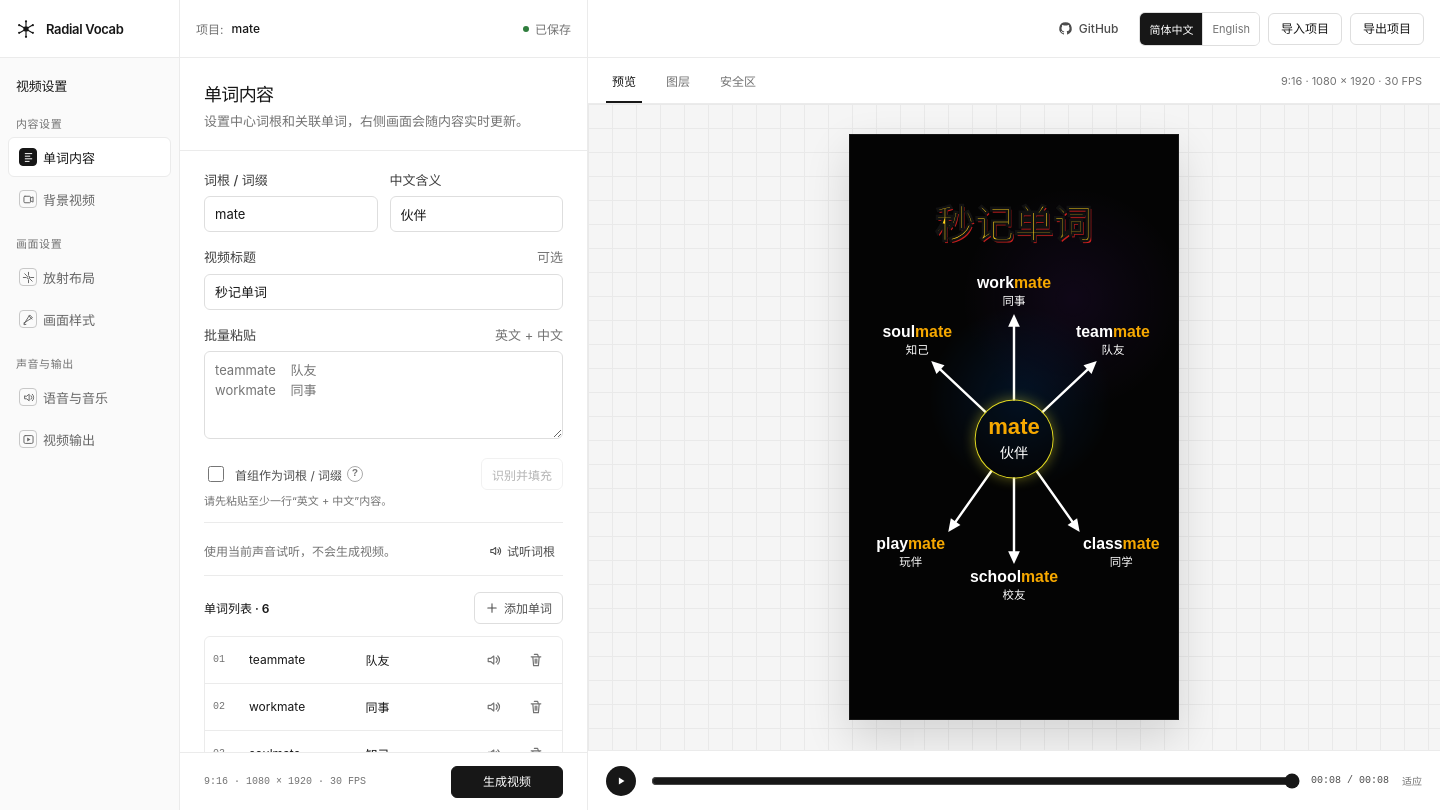
Test: three-column editor › opens and focuses the source field when a validation issue is selected
Clear the field named "中文 1" at (413, 660), box [358, 644, 468, 676]
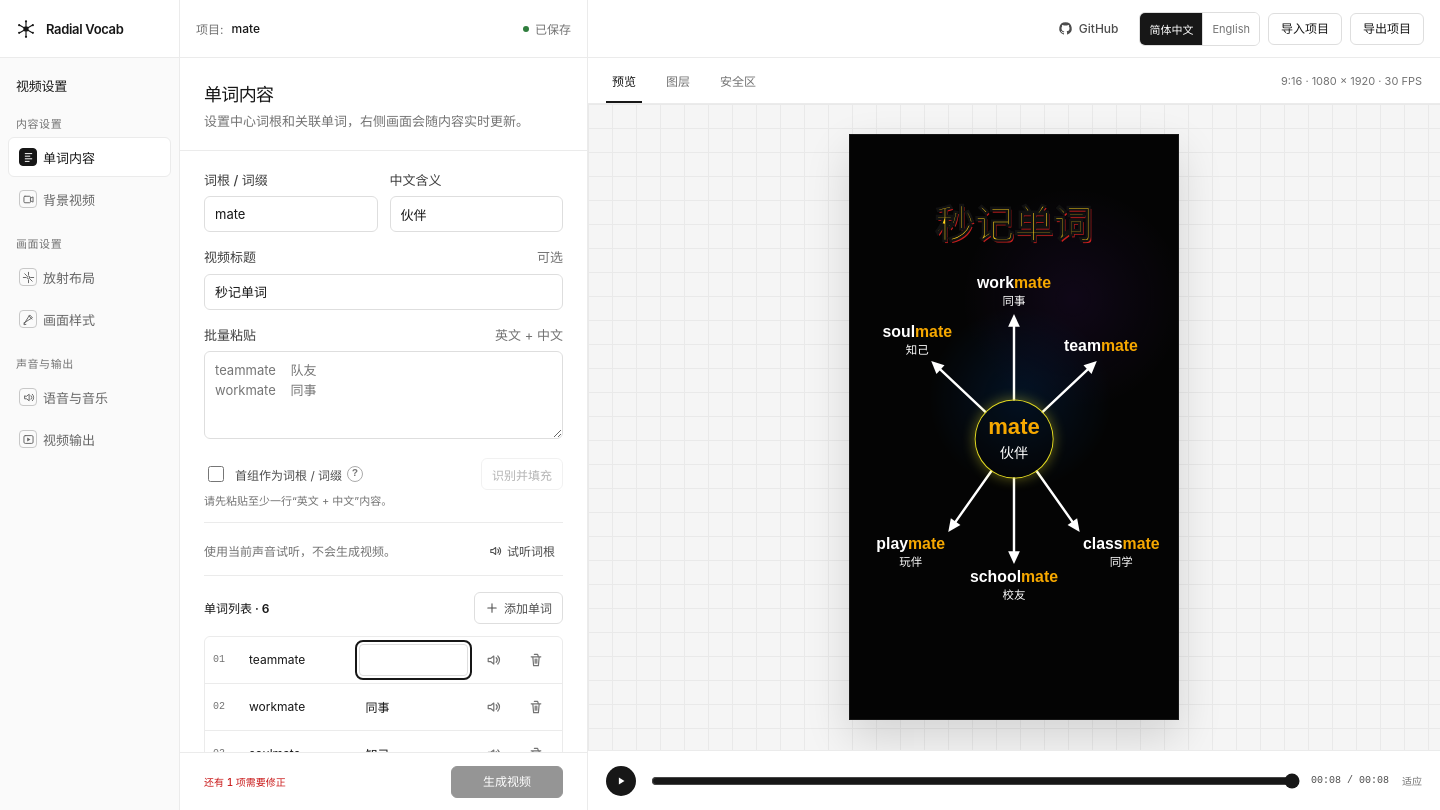
Click the button "视频输出" at (90, 439), box [8, 419, 171, 459]
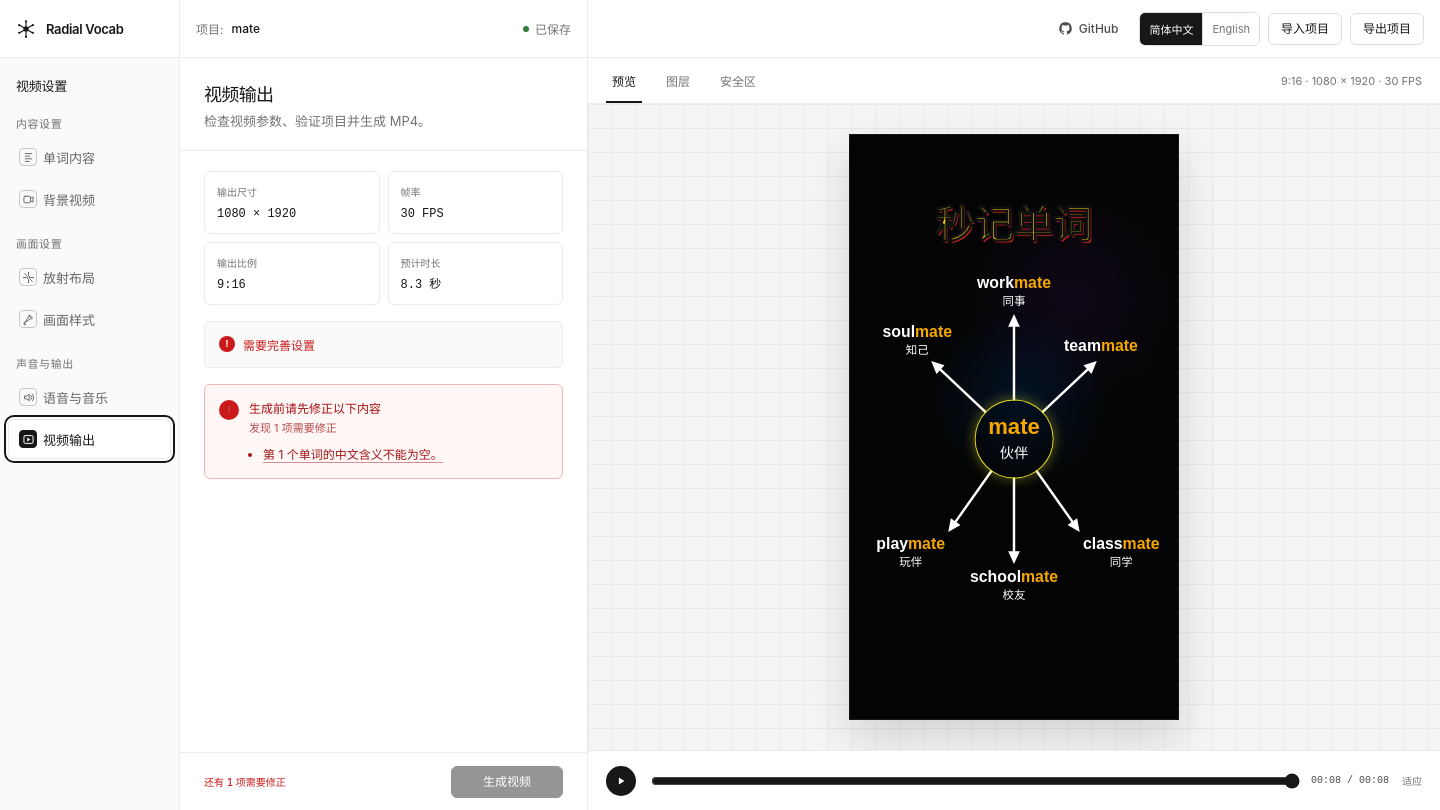
Click the button "第 1 个单词的中文含义不能为空。" at (353, 454), box [263, 444, 443, 464]
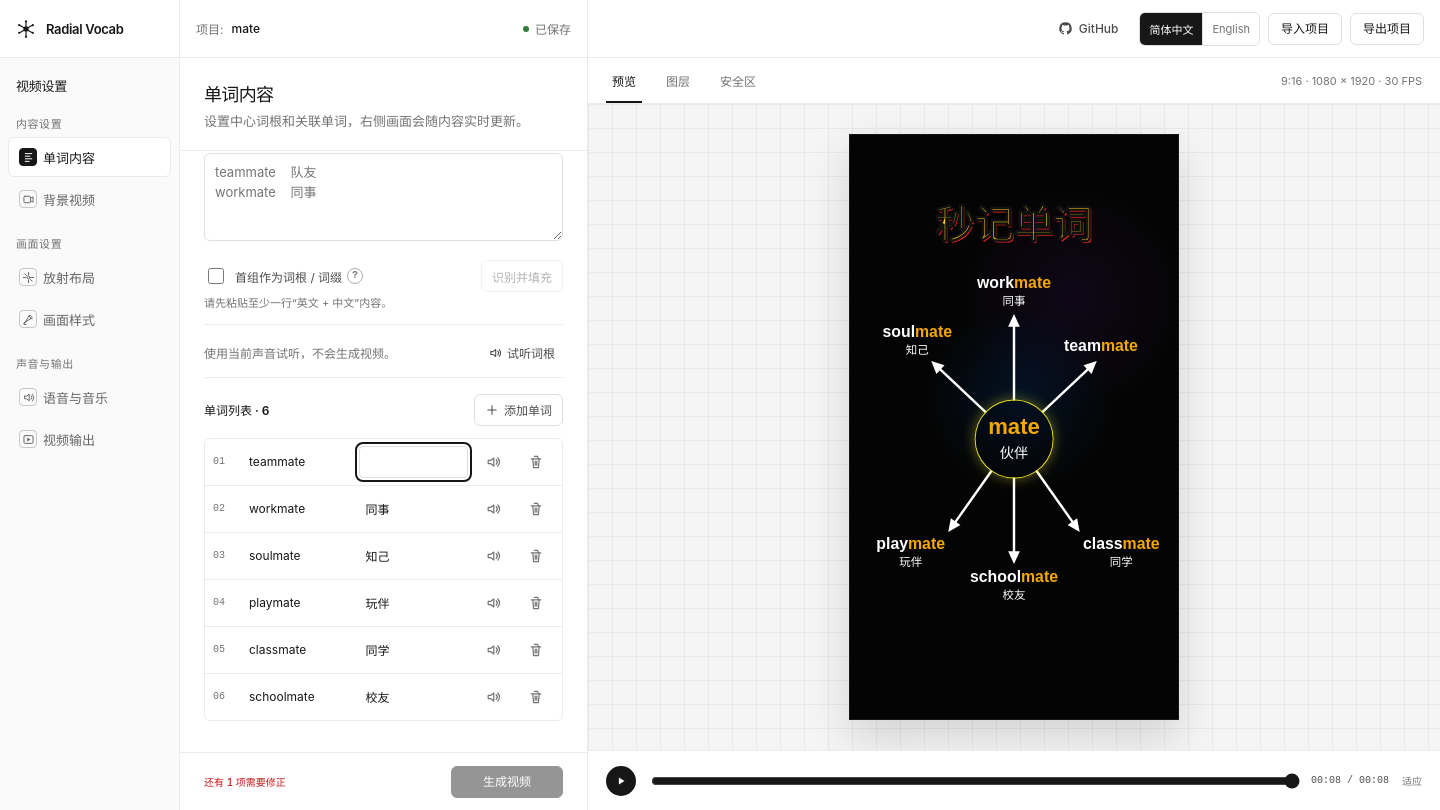
Expected: the heading "单词内容" is shown, [204, 84, 274, 105]
